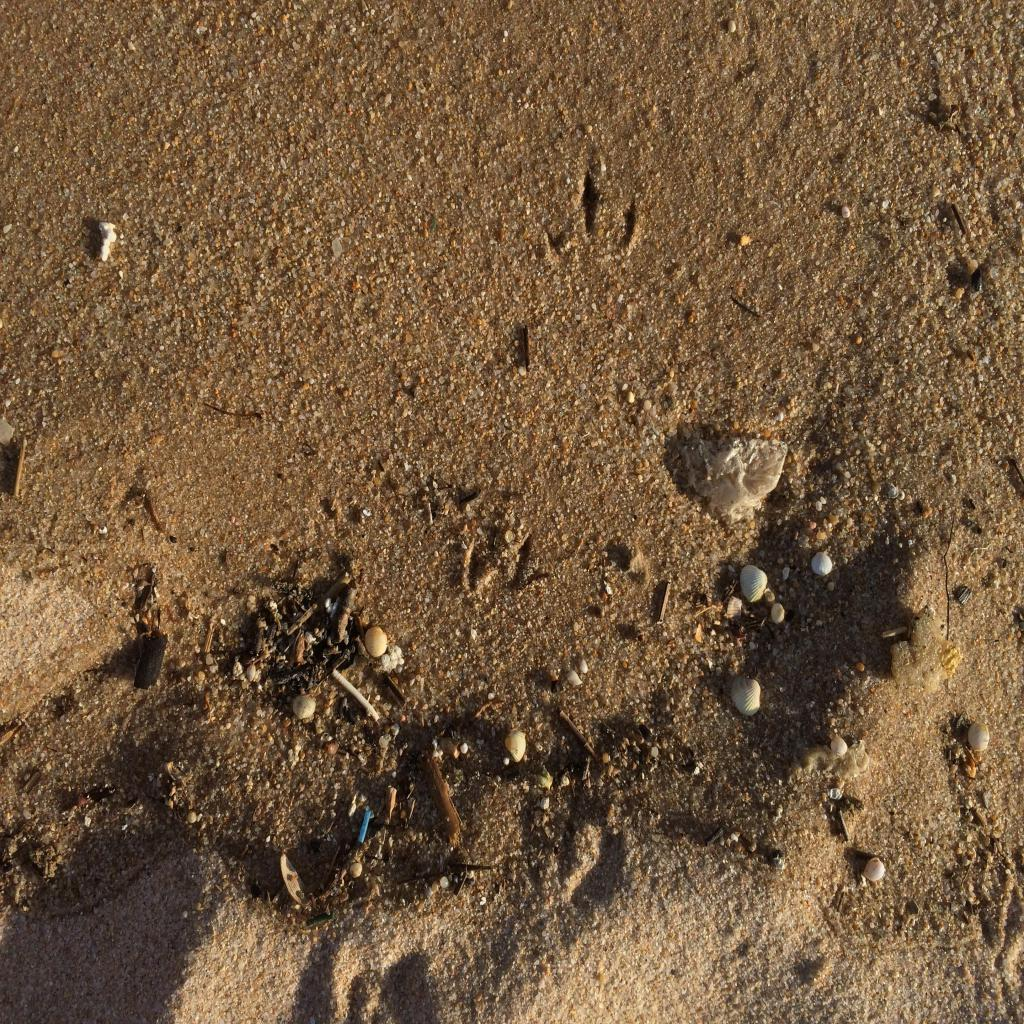Other plastic wrapper: (332, 668, 378, 720), (358, 806, 372, 844)
Plastic film: (691, 433, 789, 516)
Styrofoam piece: (100, 222, 116, 260)
